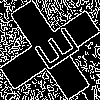E: (25, 25, 82, 78)
